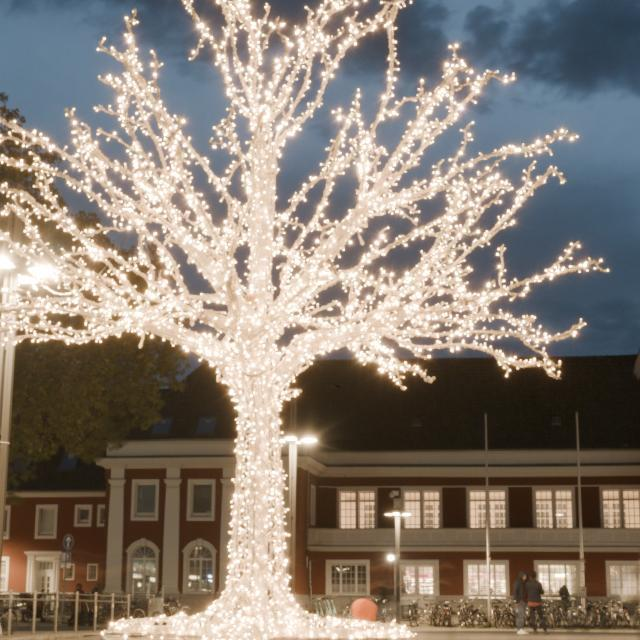Airaplan: (329, 383, 345, 387)
